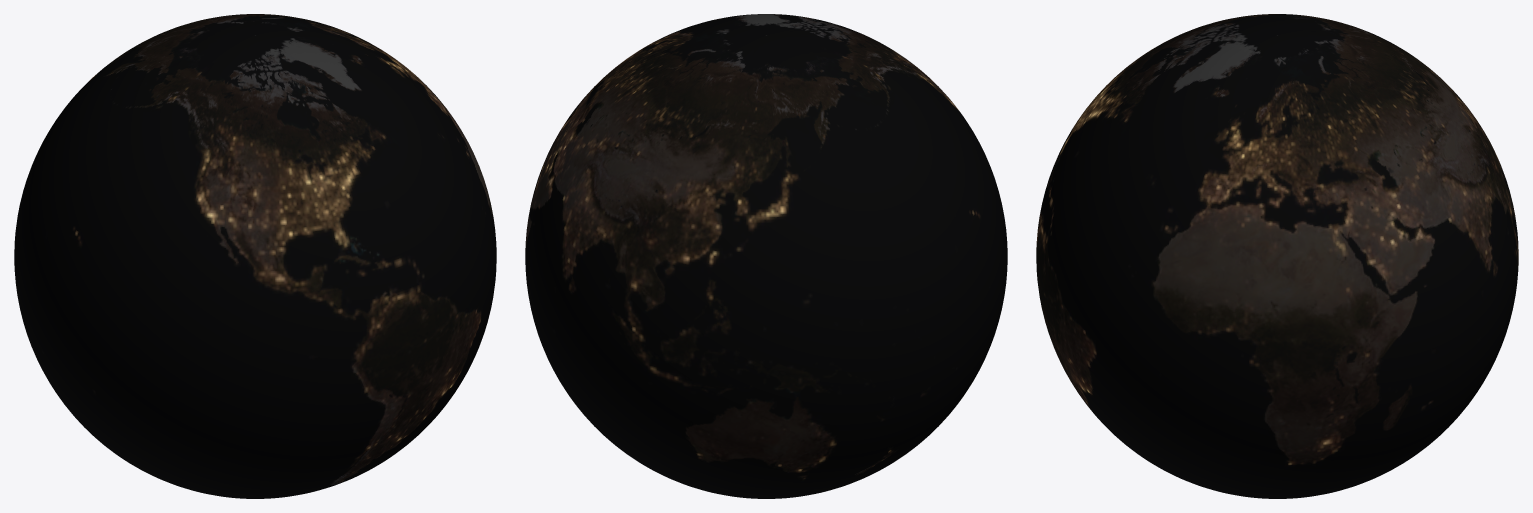
The model's file is earth.glb.
The picture shows the model from 3 angles, left to right: view 1: azimuth 30°, elevation 25°; view 2: azimuth 150°, elevation 25°; view 3: azimuth 270°, elevation 25°; orthographic projection.
Visible parts, largest first — view 1: Sphere; view 2: Sphere; view 3: Sphere.
Boxes of the visible parts, x1=… form: Sphere: x1=14, y1=14, x2=496, y2=498; Sphere: x1=525, y1=14, x2=1007, y2=498; Sphere: x1=1036, y1=14, x2=1518, y2=498.
Size of the model in its own units: 1.97 by 2 by 1.97.
1 material, 1 textured.
